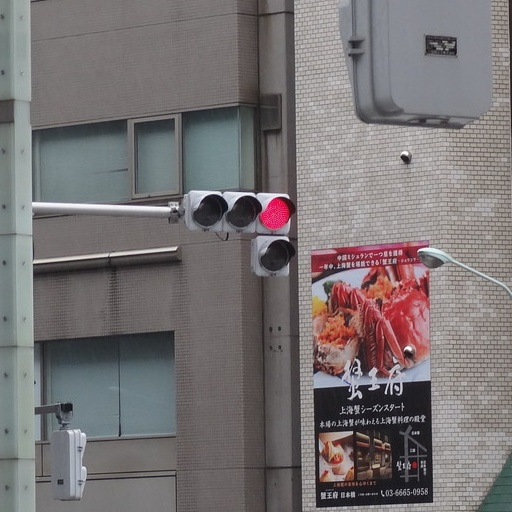Traffic_Signal_Red: (181, 186, 300, 233)
